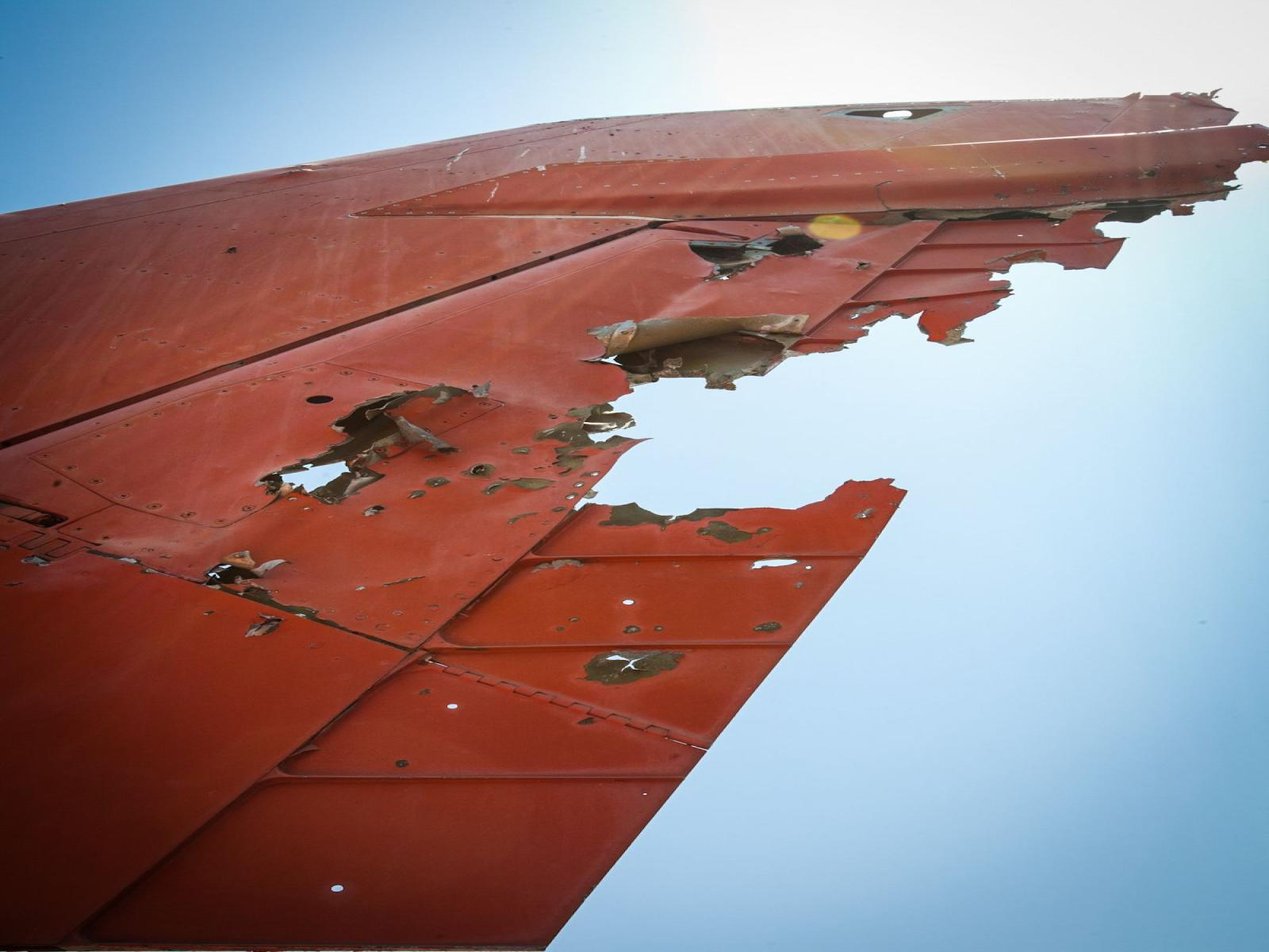Skin_Cover: (852, 213, 1122, 324), (261, 385, 485, 504), (792, 266, 1009, 353), (587, 314, 807, 357), (926, 211, 1108, 247), (689, 233, 822, 279), (585, 651, 684, 684), (553, 436, 626, 472), (205, 552, 284, 584), (552, 424, 574, 437)
